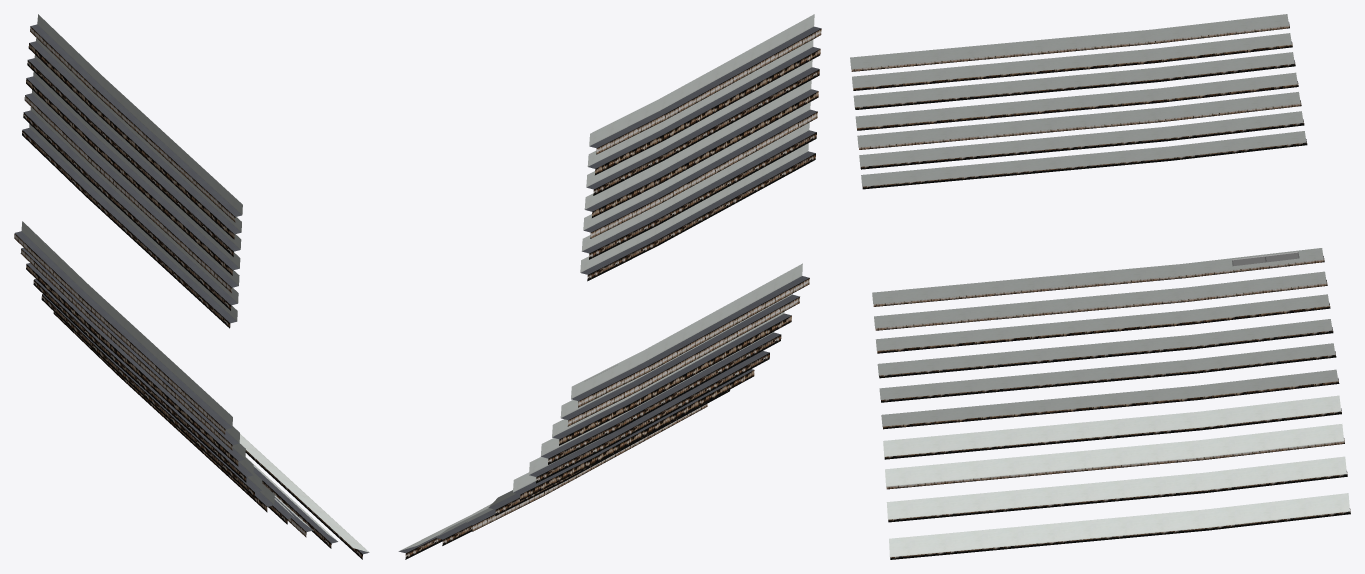
Rendered from STA20_02.FBX.
3 views of the same model, side by side, from view 1: azimuth 30°, elevation 25°; view 2: azimuth 150°, elevation 25°; view 3: azimuth 270°, elevation 25° (orthographic). The views are drawn at different scales.
Visible parts, largest first — view 1: STA20_02; view 2: STA20_02; view 3: STA20_02.
Part boxes in pixels (x1,y1,x2,y2): STA20_02: (14, 14, 369, 559); STA20_02: (398, 14, 821, 559); STA20_02: (850, 14, 1350, 559).
Bounding box in the file's own units: 68.71 × 191 × 183.
